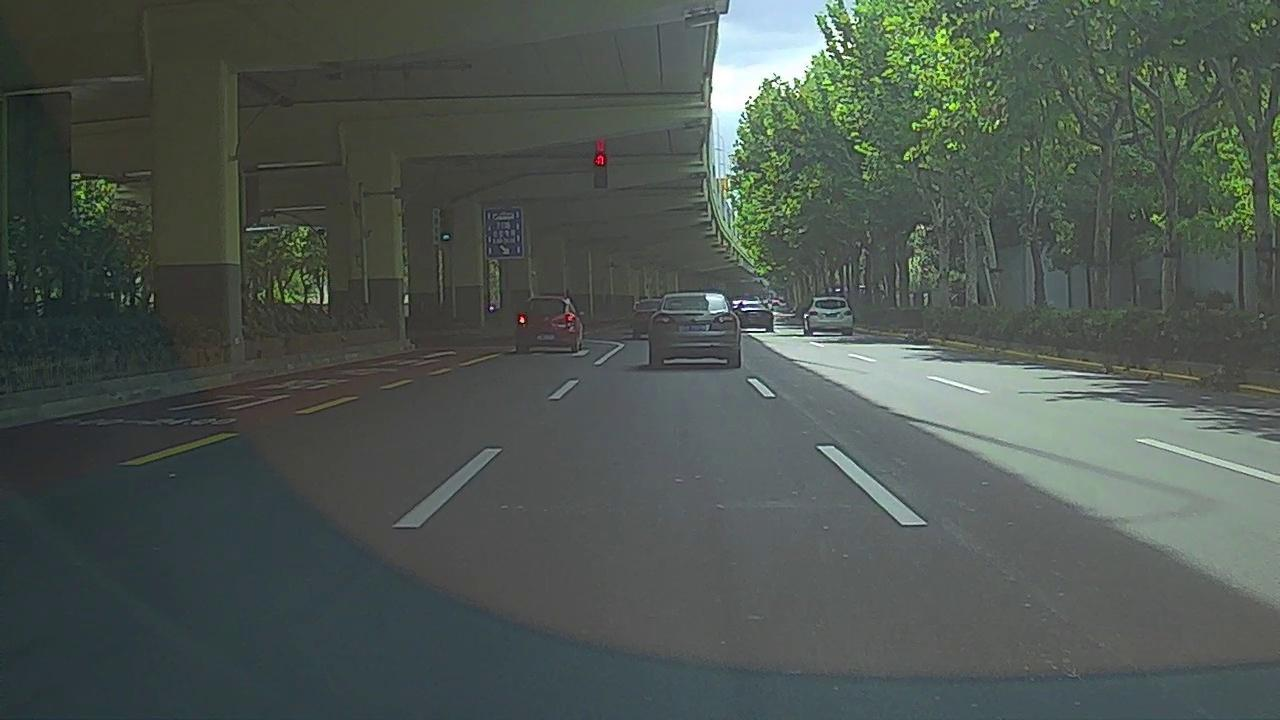traffic_light: (593, 152, 606, 189)
